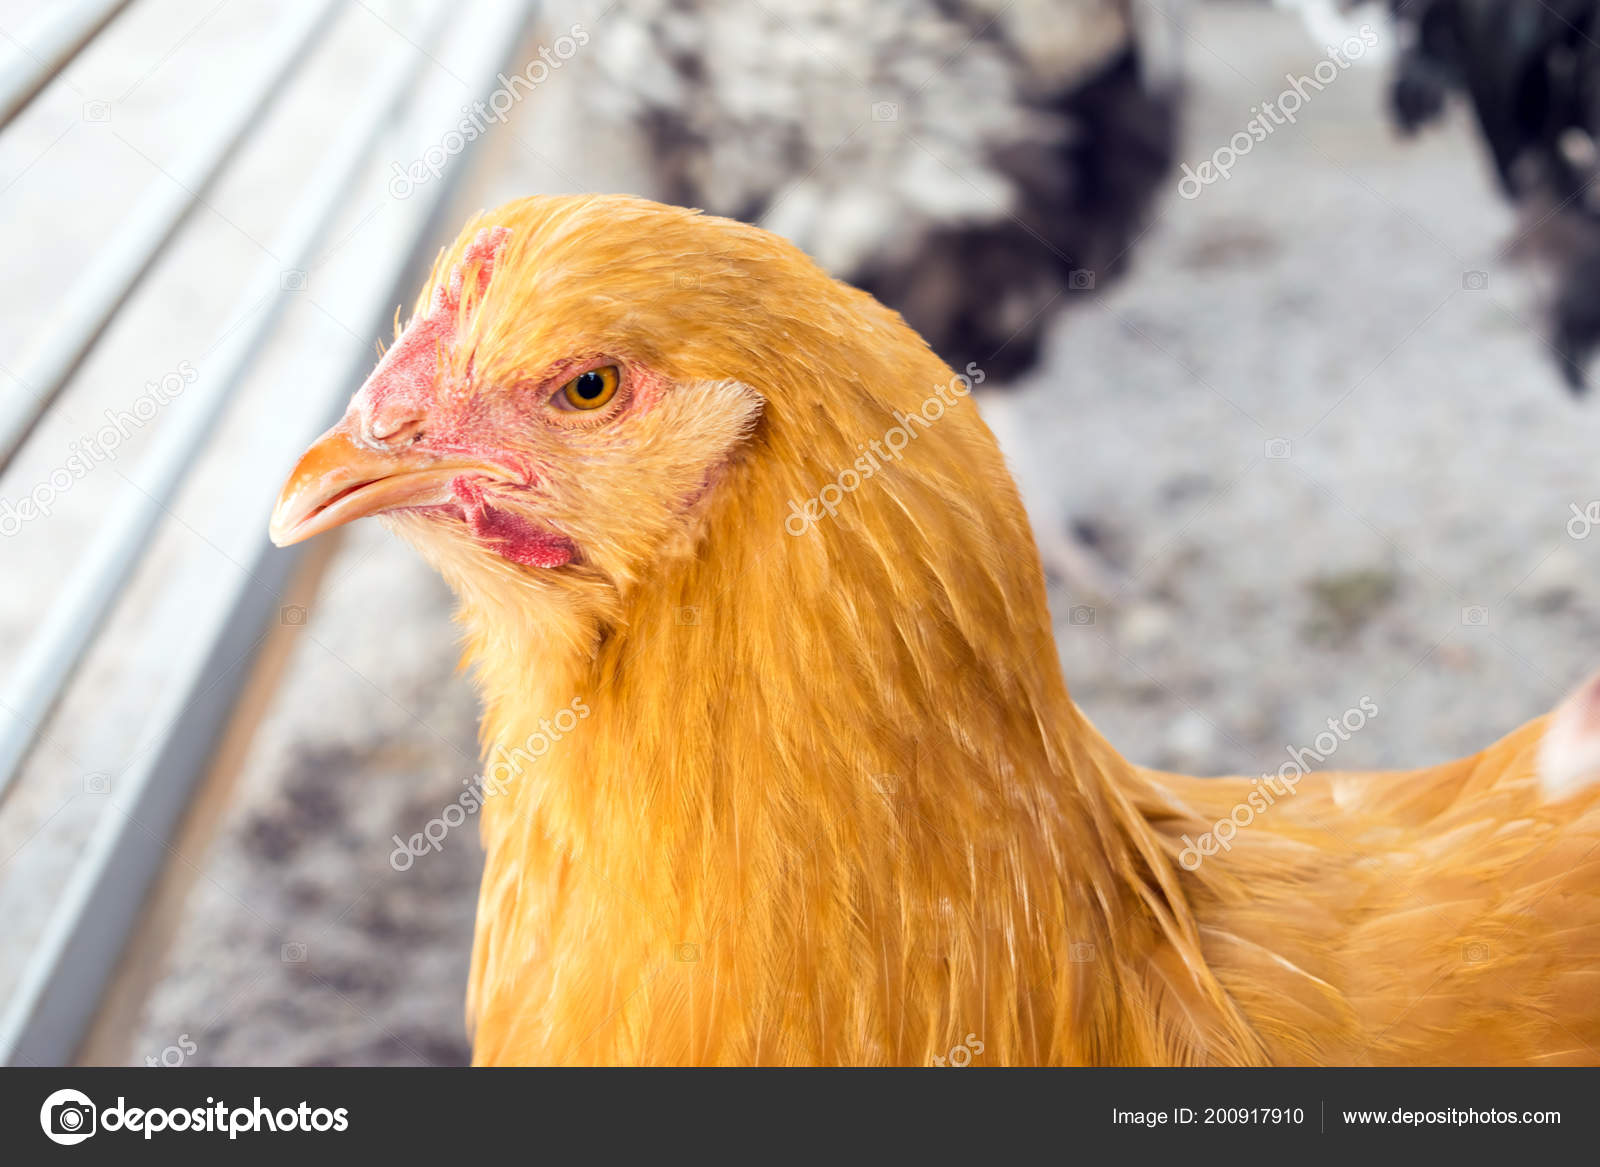buff: (226, 232, 990, 661)
